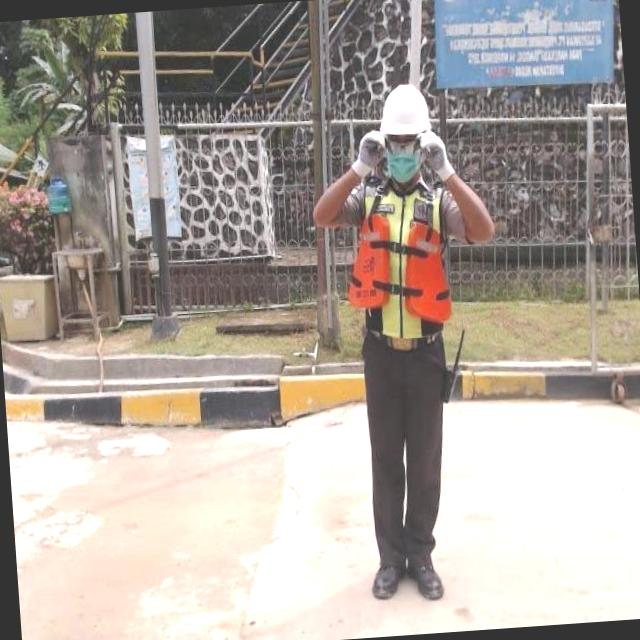boots: (401, 544, 452, 606), (358, 551, 404, 610)
gloves: (352, 121, 394, 195), (416, 122, 454, 196)
helmet: (374, 76, 437, 148)
vest: (336, 173, 458, 348)
